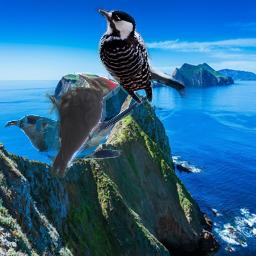Cuckoo: (5, 91, 157, 167)
Woodpecker: (94, 6, 187, 104), (45, 72, 120, 178)
